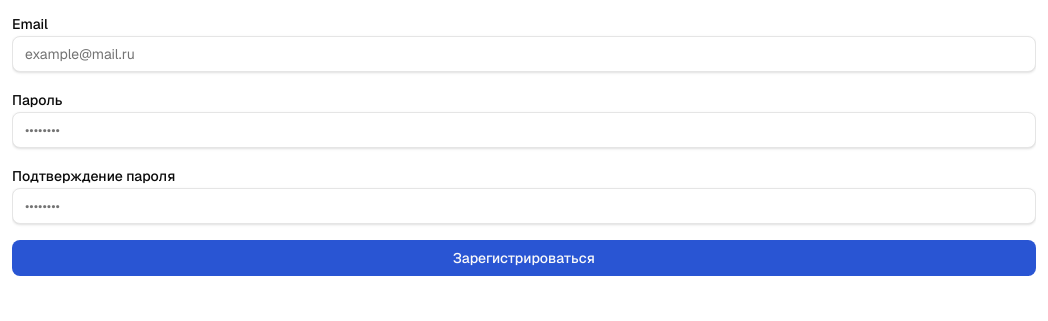
RegisterForm › validates invalid email format
In the field labelled "Email": (524, 54) [12,36,1036,72], type "invalid-email"
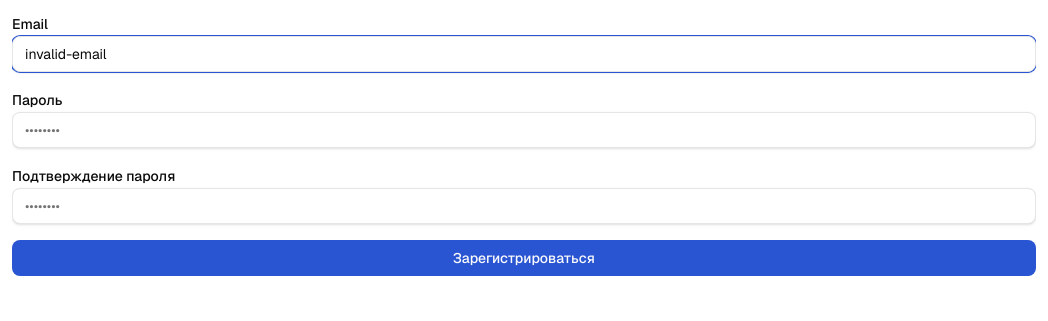
In the password field labelled "Пароль": (524, 130) [12,112,1036,148], type "password123"
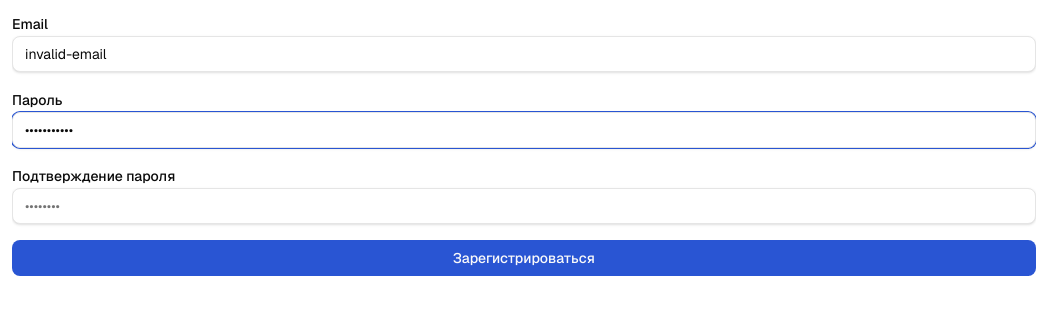
In the password field labelled "Подтверждение пароля": (524, 206) [12,188,1036,224], type "password123"
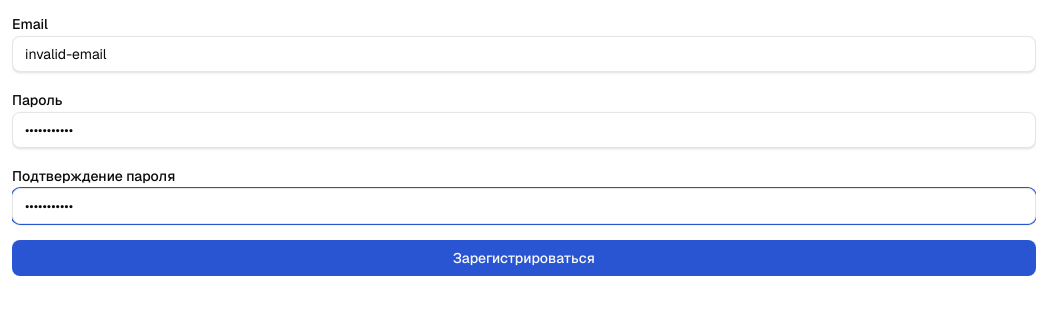
Click the button "Зарегистрироваться": click(524, 258) [12,240,1036,276]
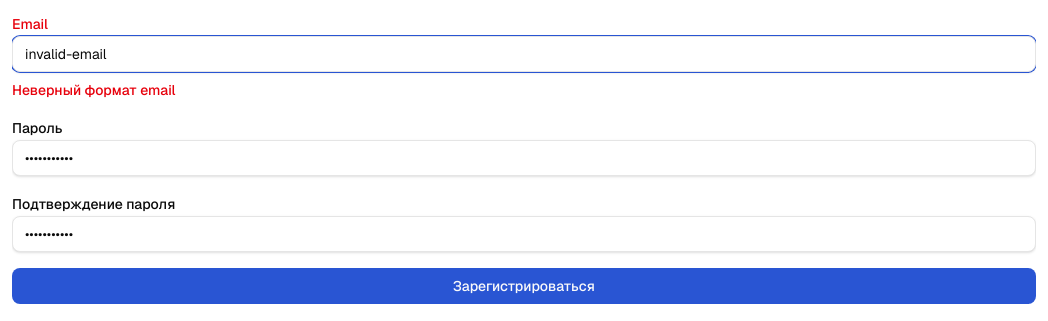
Check: the text "Неверный формат email" is shown, box [12,81,176,99]
